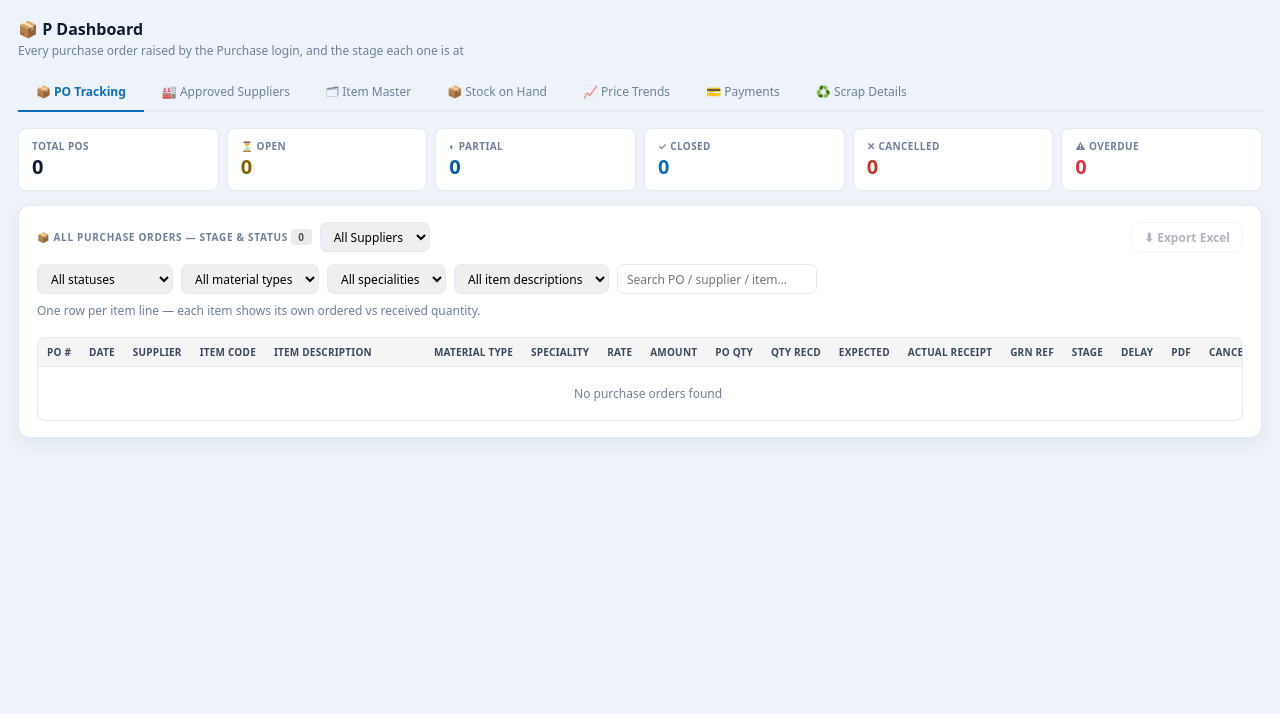
Test: Issues 3.1 — Item Master taxonomy pickers › refuses to save an "Add new" picker left empty rather than writing a blank value
The image size is (1280, 714).
Step 1. Click the text "🗂 Item Master" → {"x": 369, "y": 92}, box 326,83 -> 411,100
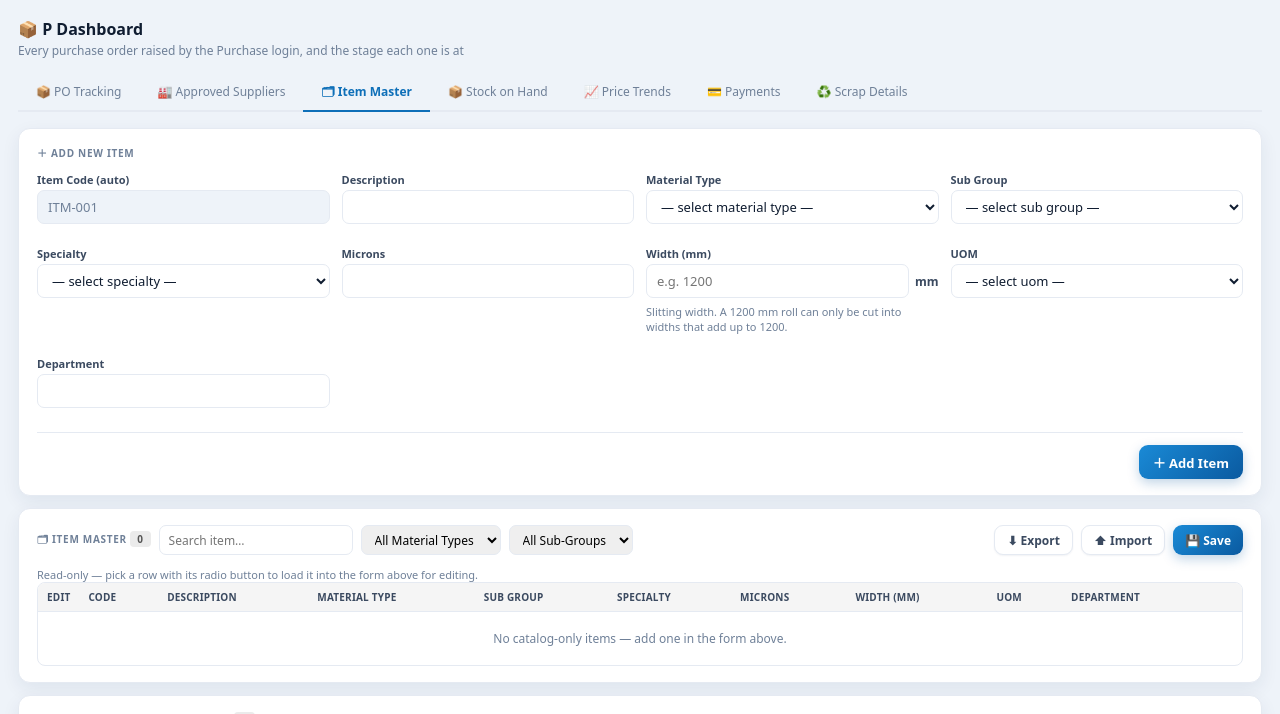
Step 2. Type "Mystery goo" into the field named "Item form Description" → {"x": 488, "y": 207}, box 342,190 -> 634,224
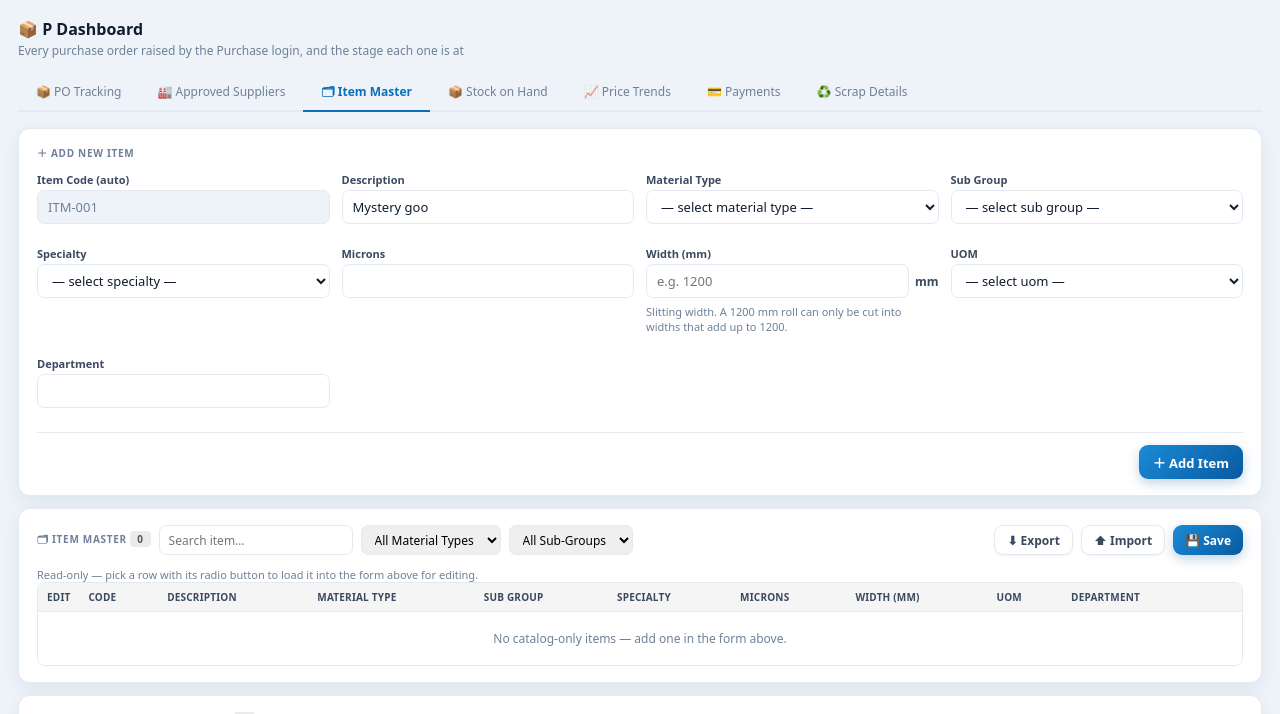
Step 3. Select "＋ Add new material type…" in the dropdown named "Item form Material Type" → {"x": 792, "y": 207}, box 646,190 -> 938,224
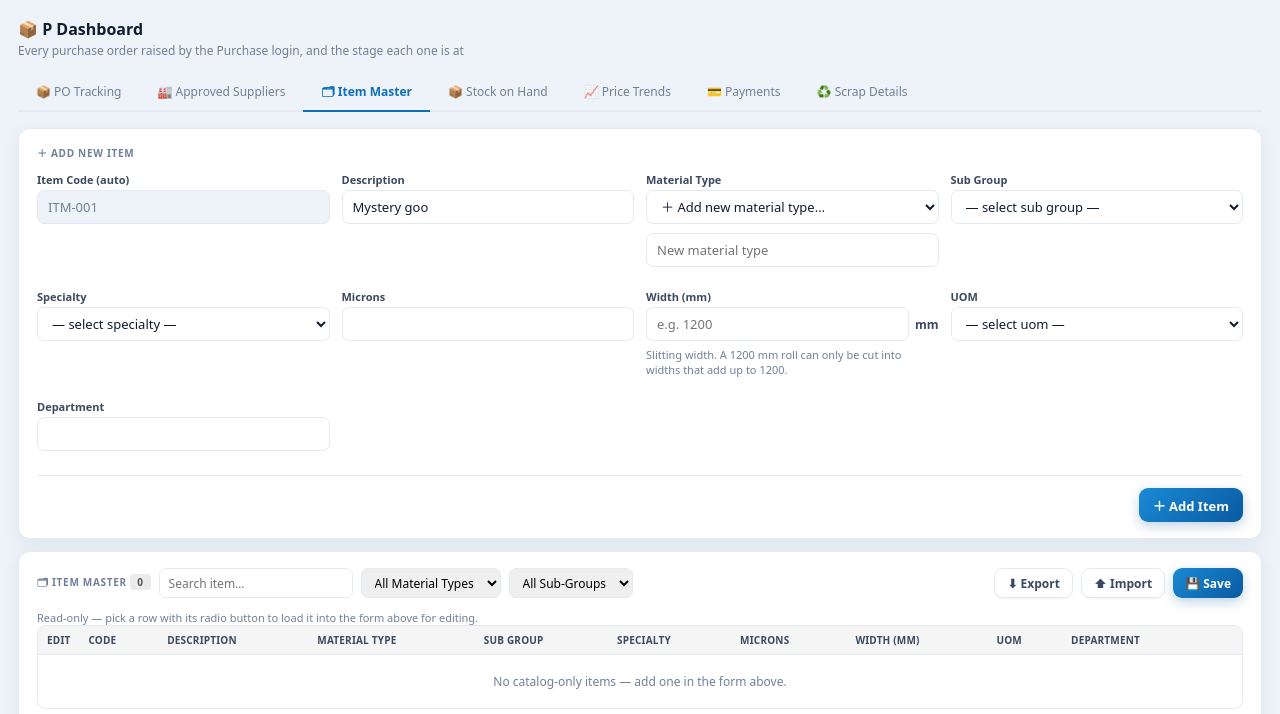
Step 4. Click the button "＋ Add Item" → {"x": 1191, "y": 505}, box 1139,488 -> 1243,522
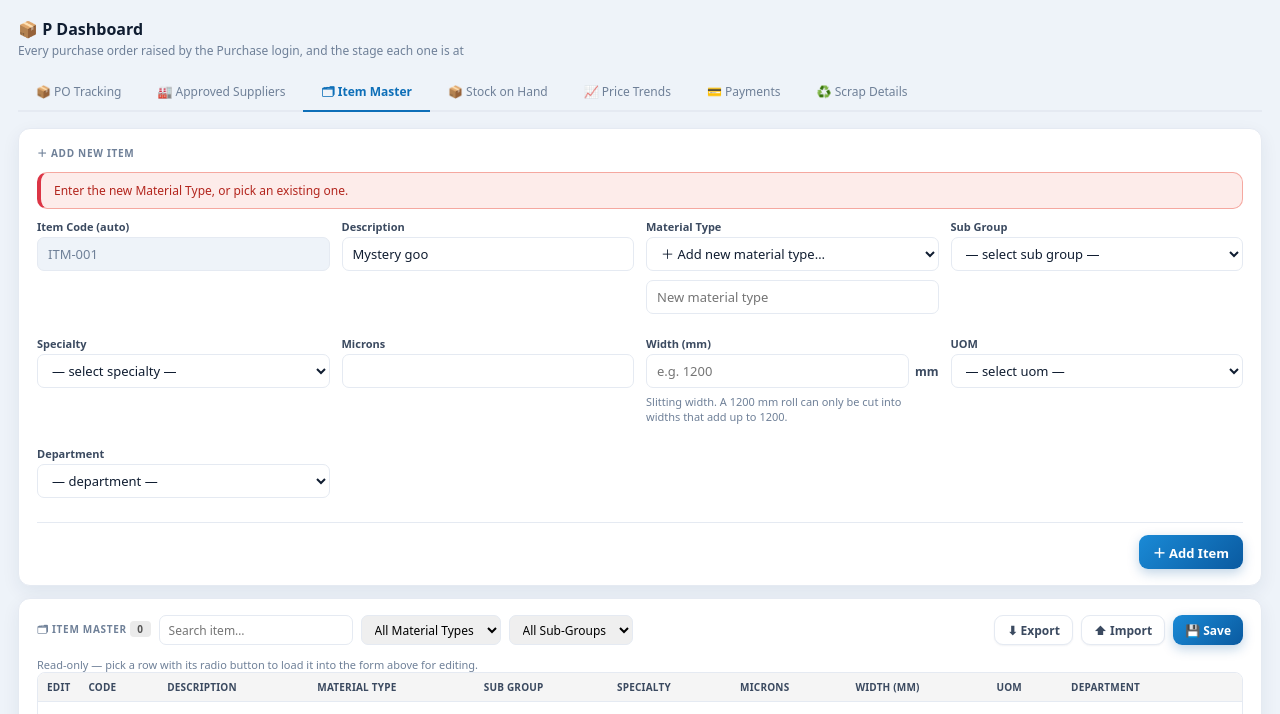
Expected: the text "Enter the new Material Type, or pick an existing one." is shown, 37,172 -> 1243,209
